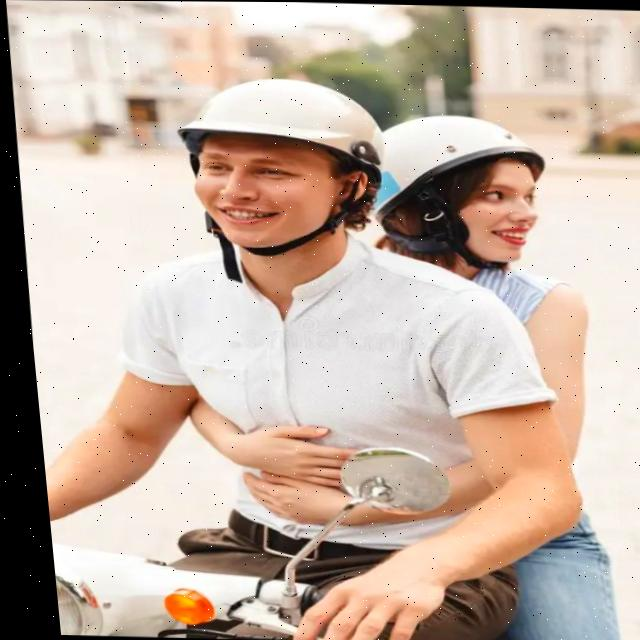helmet: (162, 70, 396, 266), (356, 110, 558, 276)
